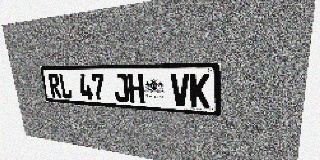4: (78, 73, 93, 100)
7: (90, 73, 106, 101)
H: (127, 73, 145, 104)
J: (113, 73, 129, 103)
K: (190, 73, 210, 108)
L: (58, 73, 73, 99)
R: (48, 73, 62, 98)
V: (170, 73, 190, 107)
